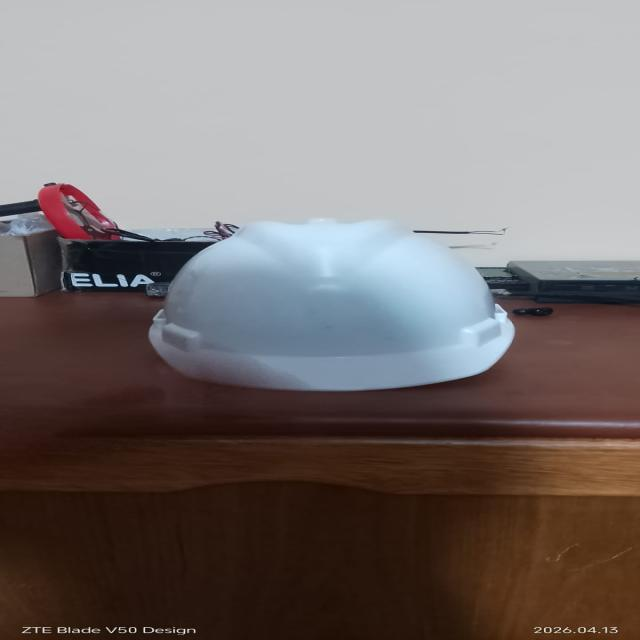casco: (133, 216, 517, 404)
